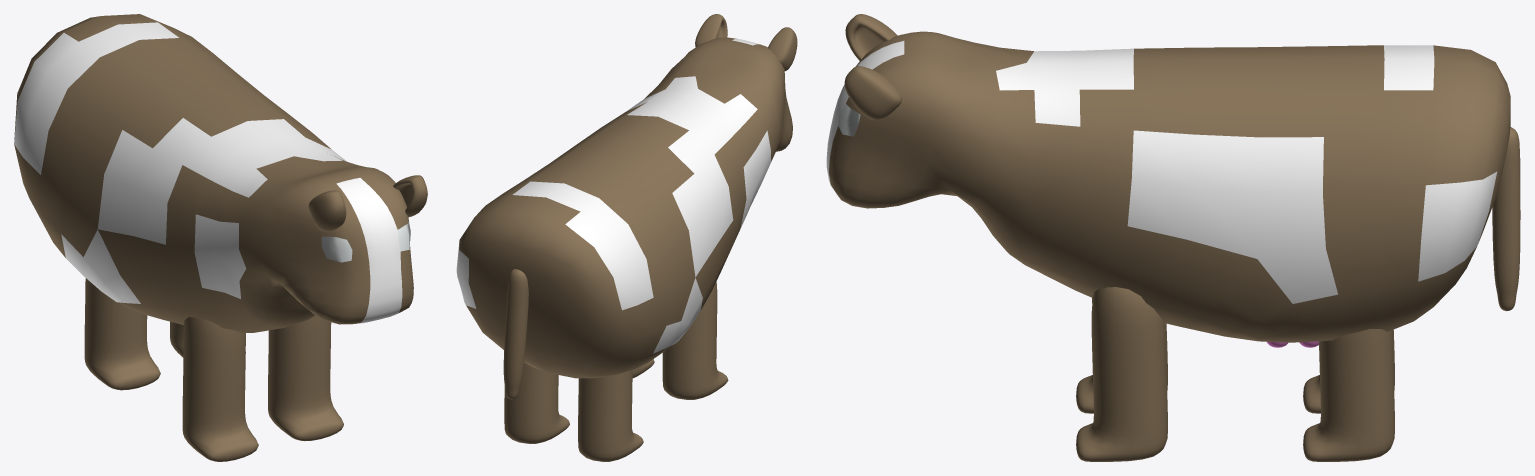
File: item-cow.glb
3 renders of one model, left to right at view 1: azimuth 30°, elevation 25°; view 2: azimuth 150°, elevation 25°; view 3: azimuth 270°, elevation 25°, orthographic. The views are drawn at different scales.
Size of the model in its own units: 1.98 by 3.18 by 5.11.
Materials: 4 (1 with a texture image).
